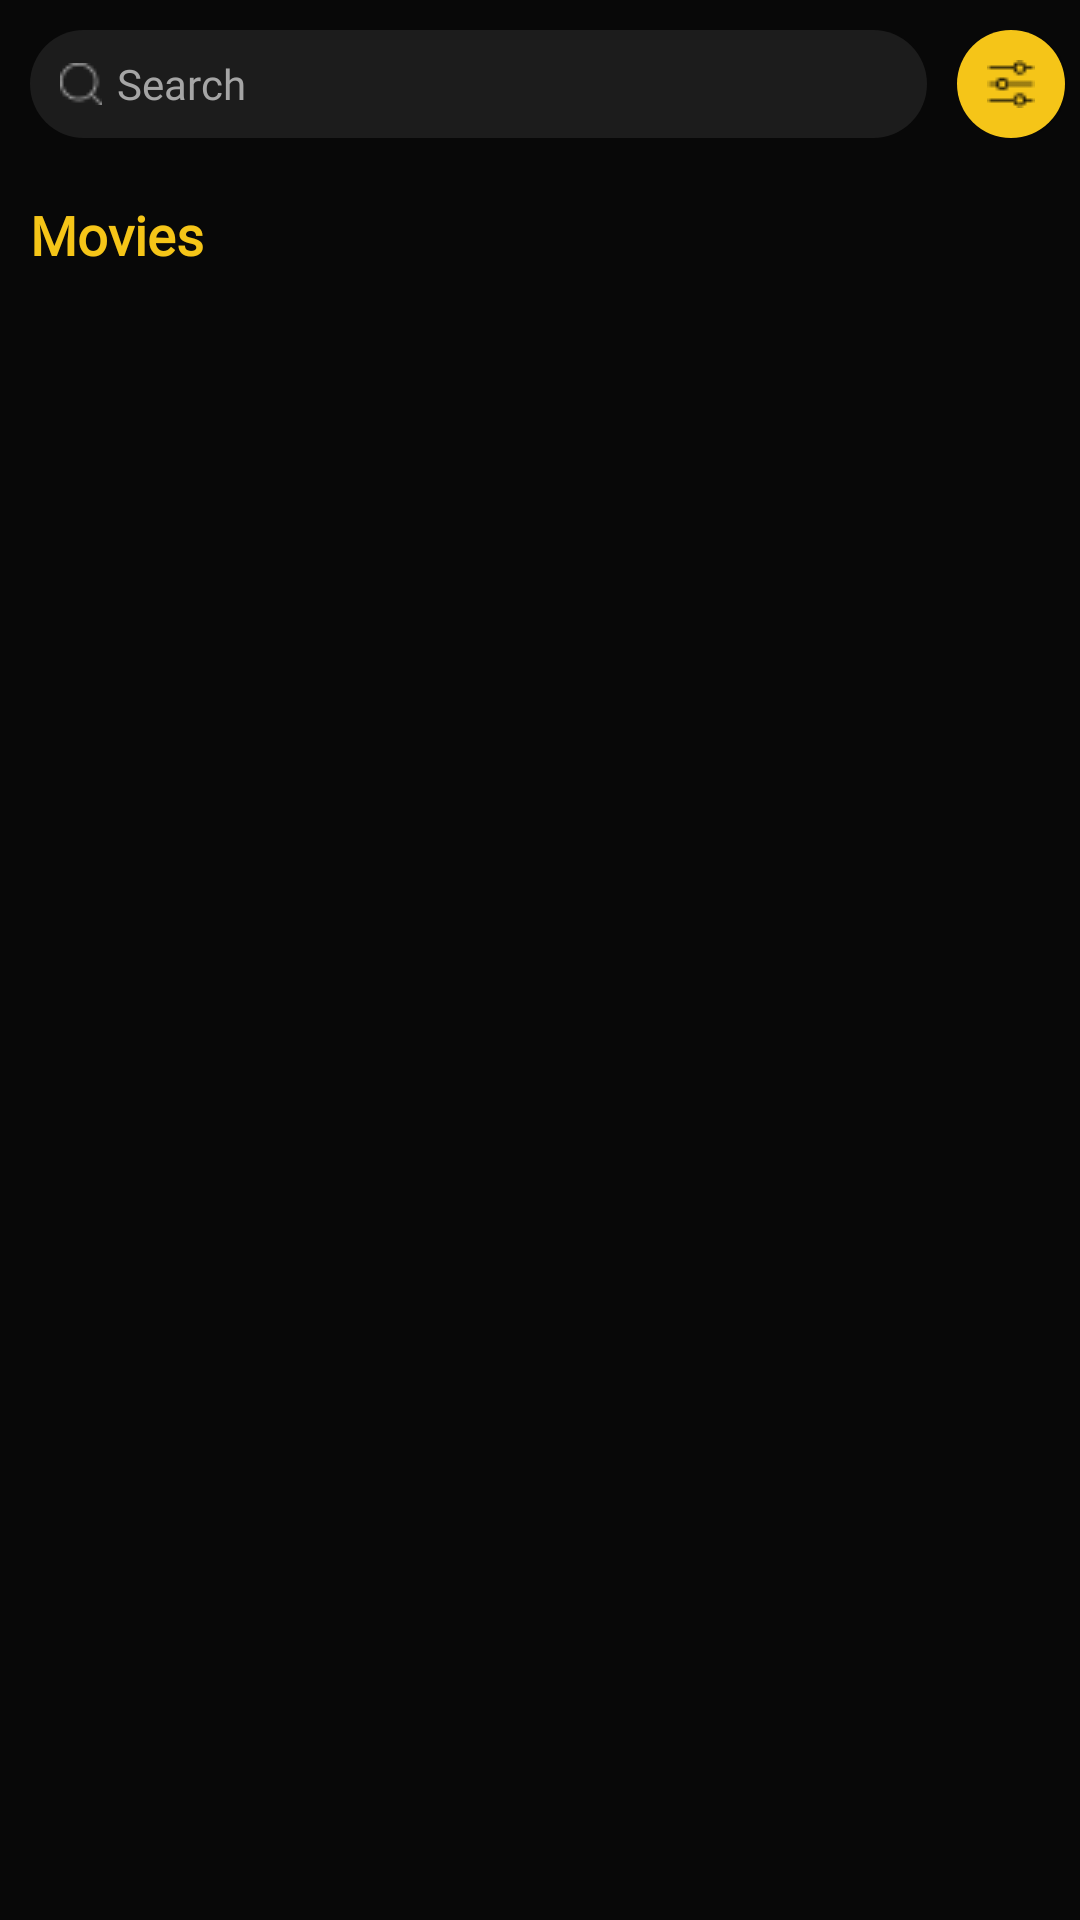

Named icons in this screenshot (1080x1920) and their bounding boxes, (left=x1, top=y1, right=x2, bottom=y2):
filter show: (left=957, top=30, right=1065, bottom=138)
